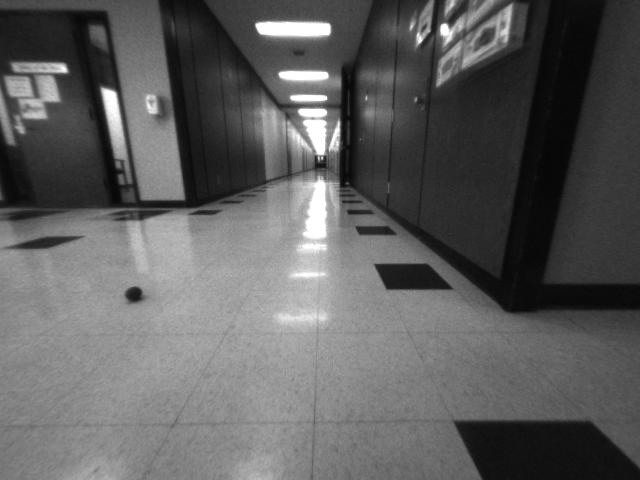dogtoy: (117, 276, 154, 310)
